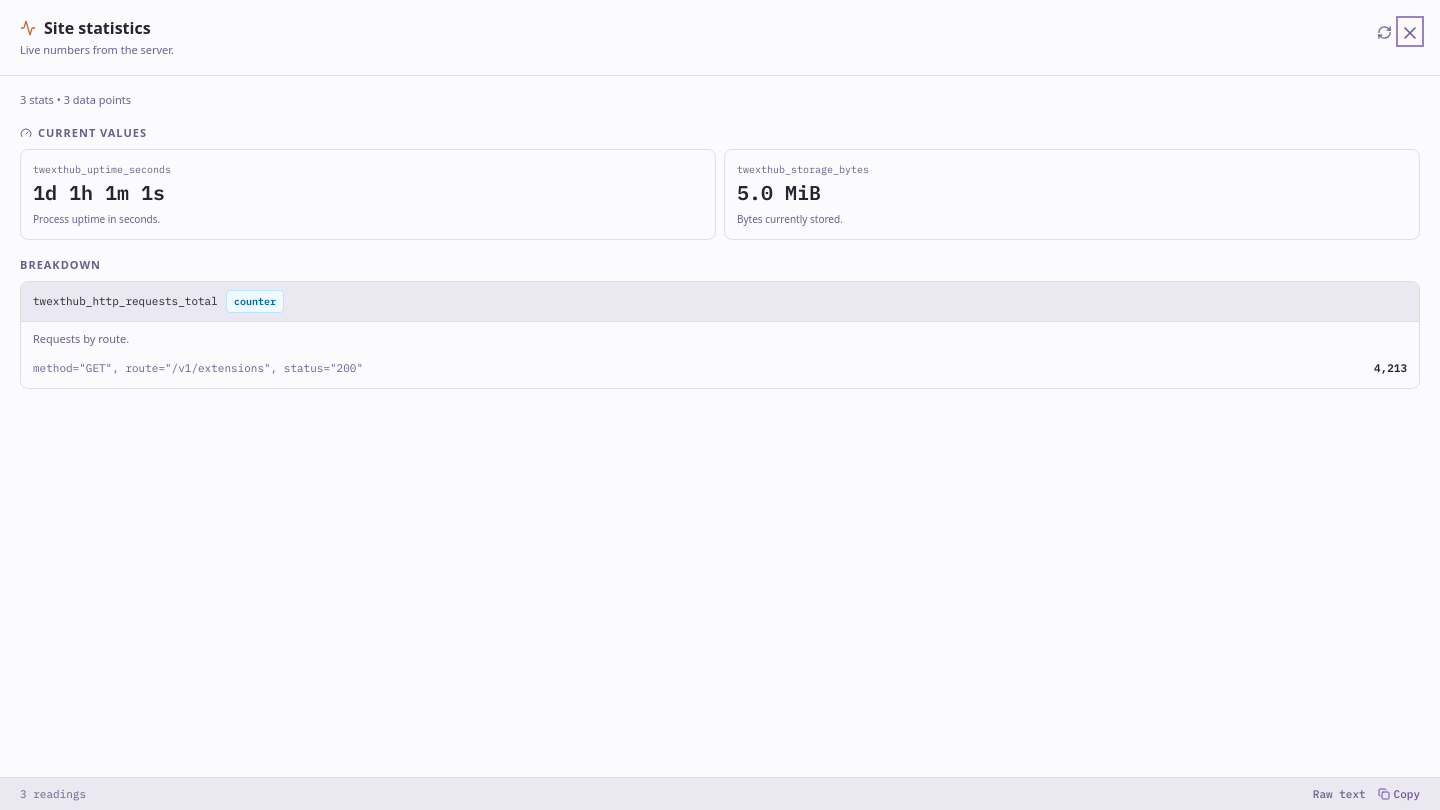
Scenario: MetricsModal › switches to a raw read-only view and back
Expected: the text "twexthub_uptime_seconds" is shown, [33,163,171,176]
Click the button "Raw text" at (1339, 794), box [1313,786,1366,802]
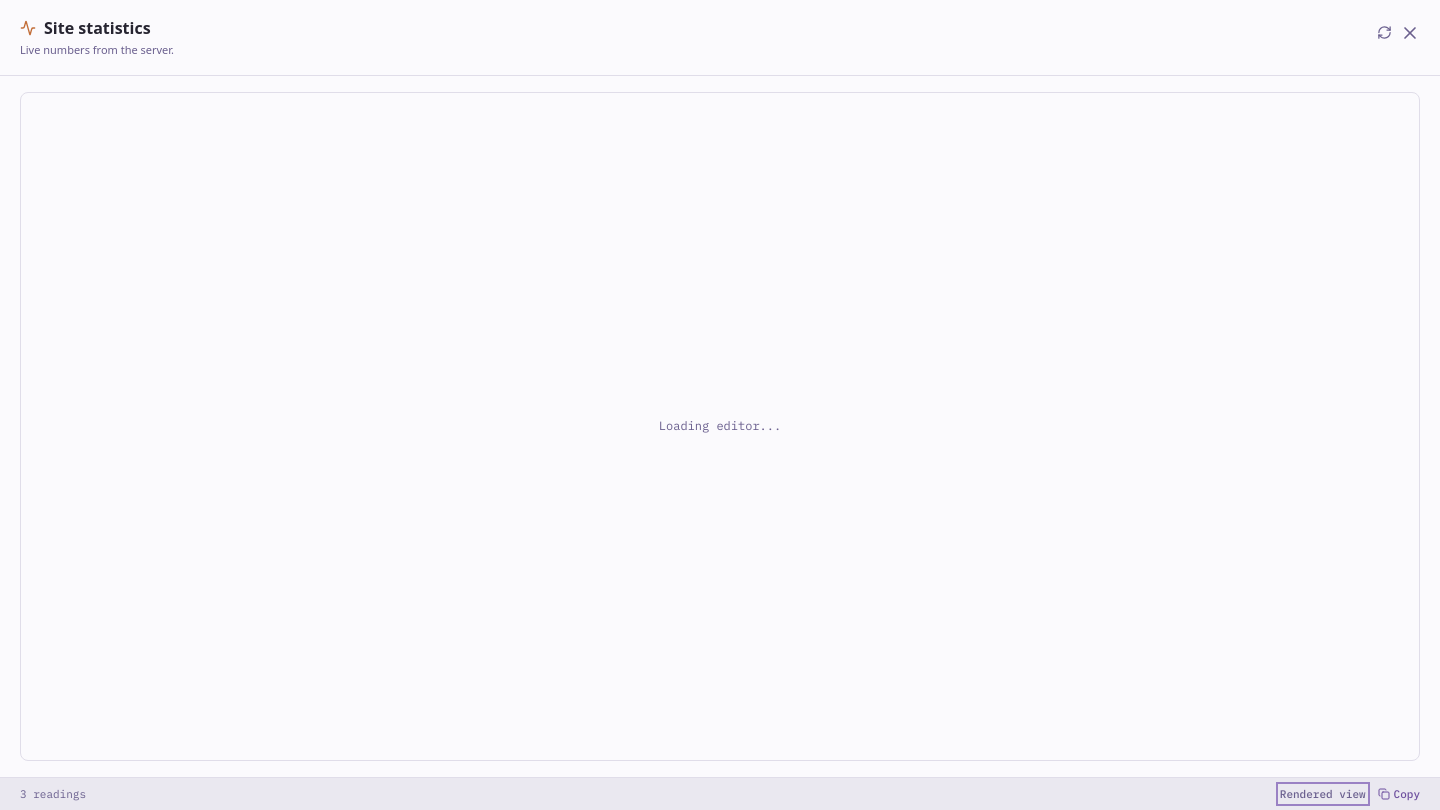
Now the button "Rendered view" is shown
Now the heading "Current values" is gone
Click the button "Rendered view" at (1323, 794), box [1280,786,1366,802]
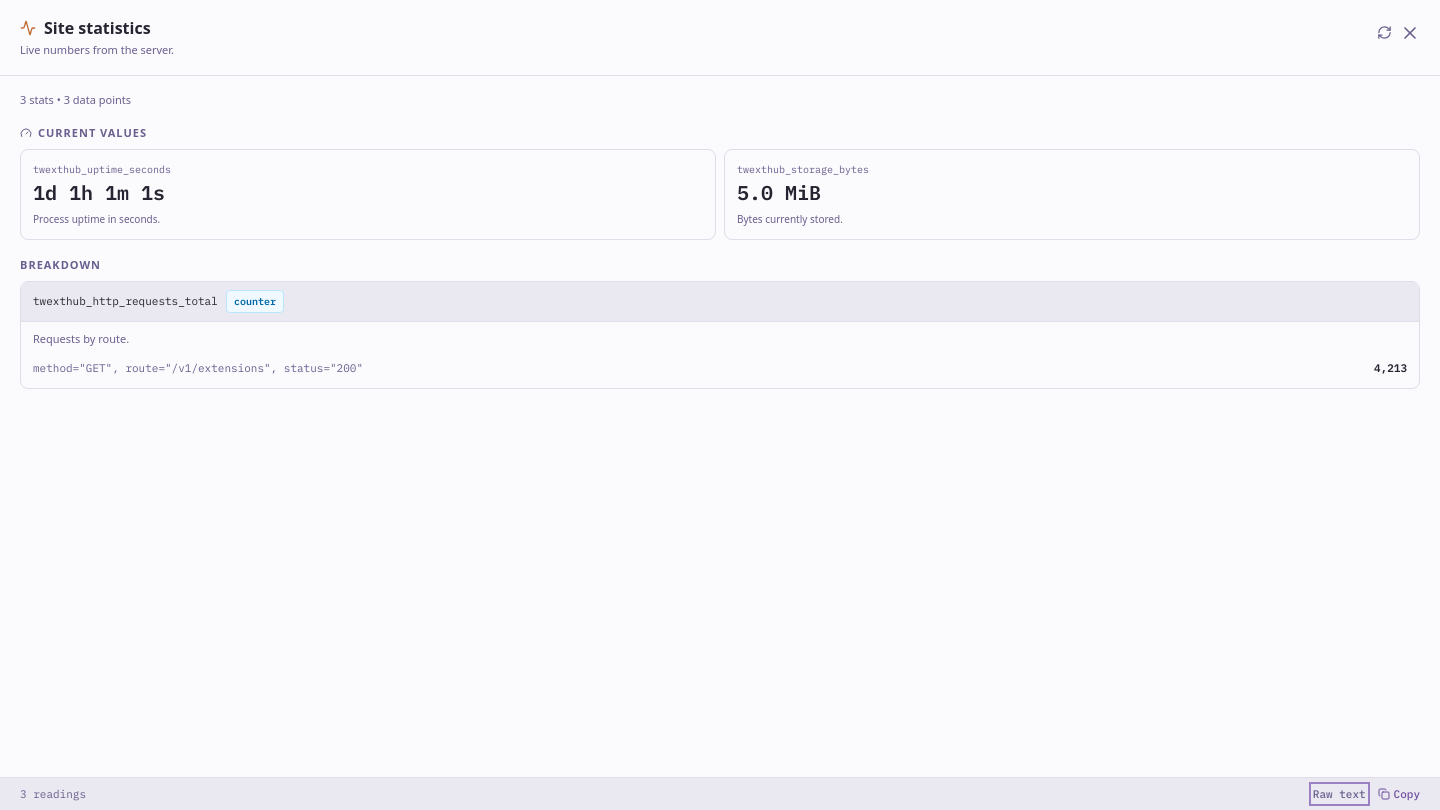
Now the heading "Current values" is shown, box [20,125,147,140]
